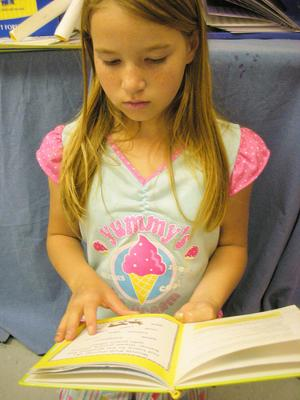person: (37, 2, 271, 345)
